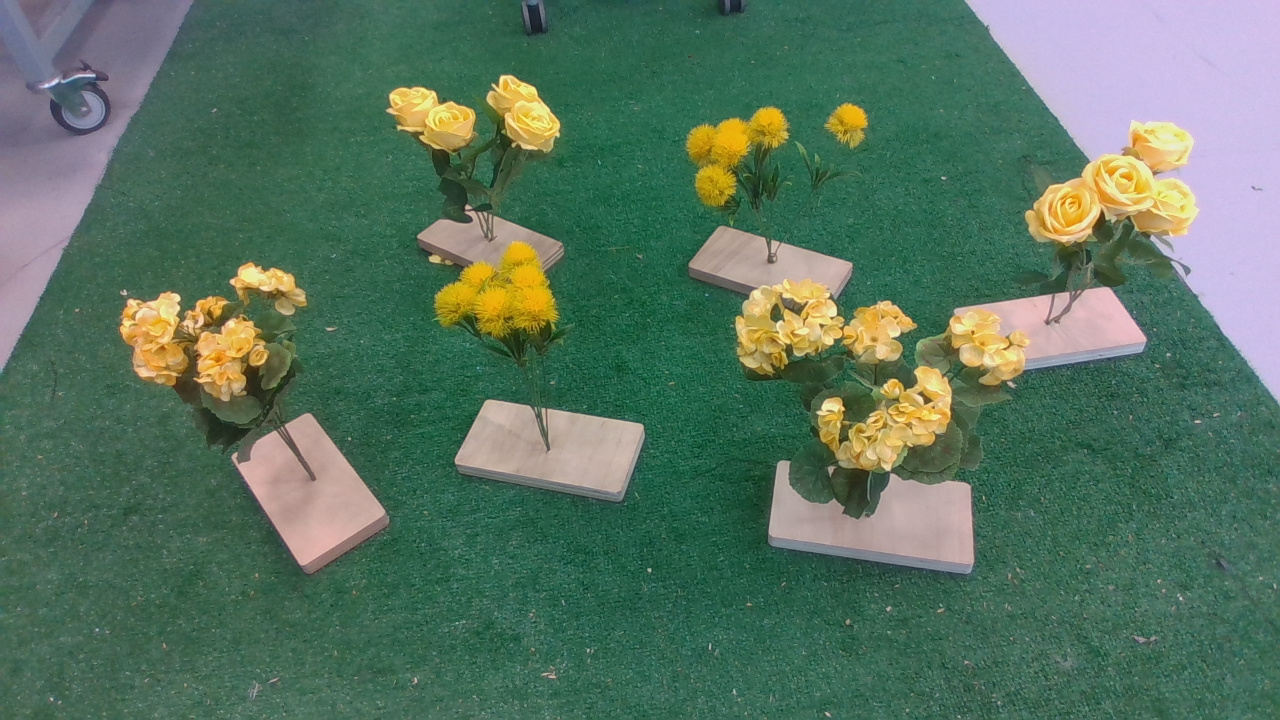dandelion: (684, 100, 884, 225), (429, 243, 575, 367)
geranium: (734, 278, 1041, 523), (116, 259, 329, 474)
rose: (1008, 123, 1207, 304), (385, 74, 571, 234)
